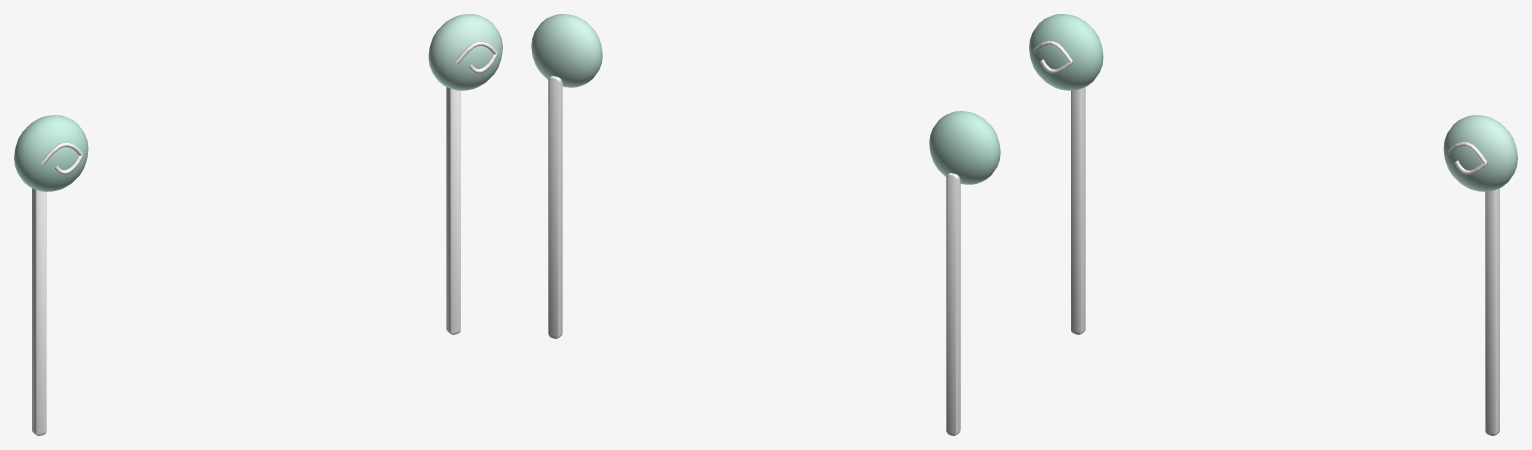
File: decor_2_mint.glb
3 views of the same model, side by side, from view 1: azimuth 30°, elevation 25°; view 2: azimuth 150°, elevation 25°; view 3: azimuth 330°, elevation 25° (orthographic). The views are drawn at different scales.
Parts seen in each view (by area): view 1: decor_2_mint; view 2: decor_2_mint; view 3: decor_2_mint.
Boxes of the visible parts, x1=… form: decor_2_mint: x1=14, y1=14, x2=502, y2=435; decor_2_mint: x1=531, y1=14, x2=1000, y2=435; decor_2_mint: x1=1029, y1=14, x2=1517, y2=435.
Size of the model in its own units: 28 by 18.02 by 2.99.
